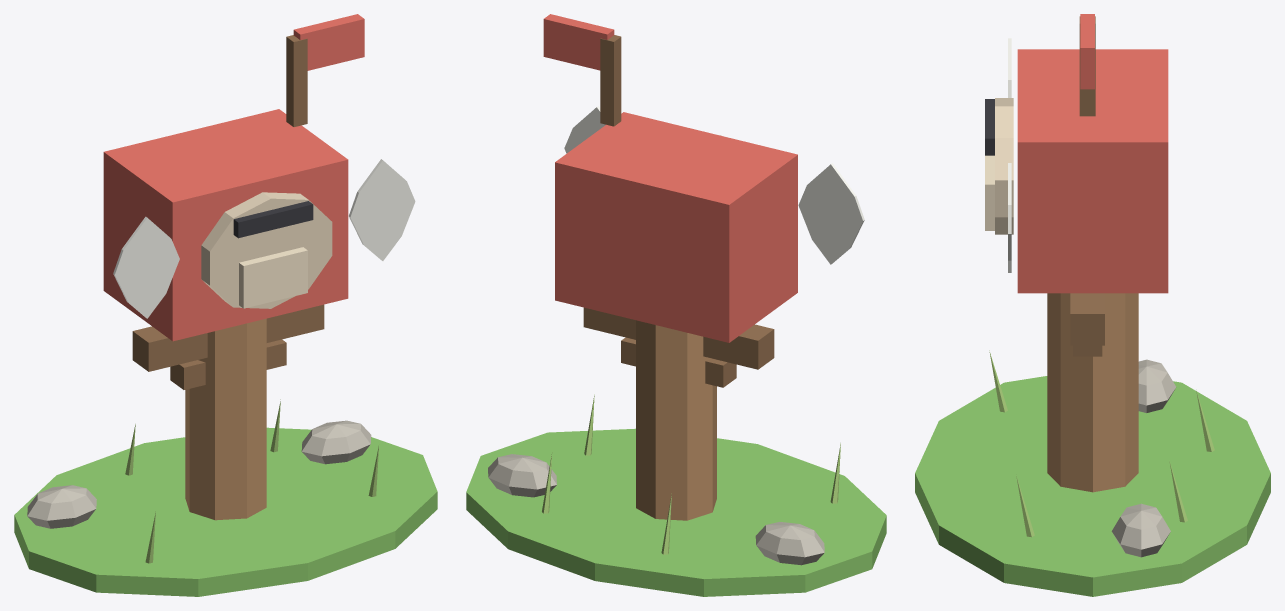
3 views of the same model, side by side, from view 1: azimuth 30°, elevation 25°; view 2: azimuth 150°, elevation 25°; view 3: azimuth 270°, elevation 25° (orthographic). The views are drawn at different scales.
Parts seen in each view (by area): view 1: round grass base, rounded red courier mailbox body, short rounded wooden post, cream front envelope door, large white courier wing right, large white courier wing left, chunky cross support, front envelope flap, clear red flag cloth, small rock.001, small rock, strong flag pole (+2 smaller); view 2: rounded red courier mailbox body, round grass base, short rounded wooden post, large white courier wing left, chunky cross support, clear red flag cloth, small rock.001, small rock, strong flag pole, small lower brace, large white courier wing right; view 3: round grass base, rounded red courier mailbox body, short rounded wooden post, cream front envelope door, small rock, chunky cross support, small rock.001, clear red flag cloth, front envelope flap, strong flag pole, wide black slot.
Boxes of the visible parts, left/top/right/bottom form: round grass base: left=14, top=427, right=437, bottom=596; rounded red courier mailbox body: left=103, top=109, right=348, bottom=341; short rounded wooden post: left=185, top=318, right=266, bottom=520; cream front envelope door: left=201, top=192, right=332, bottom=308; large white courier wing right: left=349, top=159, right=415, bottom=260; large white courier wing left: left=113, top=216, right=179, bottom=318; chunky cross support: left=132, top=304, right=324, bottom=371; front envelope flap: left=239, top=247, right=307, bottom=308; clear red flag cloth: left=293, top=14, right=364, bottom=70; small rock.001: left=27, top=485, right=96, bottom=528; small rock: left=301, top=420, right=371, bottom=464; strong flag pole: left=286, top=35, right=307, bottom=126; rounded red courier mailbox body: left=555, top=112, right=797, bottom=342; round grass base: left=466, top=428, right=886, bottom=596; short rounded wooden post: left=636, top=320, right=716, bottom=520; large white courier wing left: left=798, top=163, right=864, bottom=264; chunky cross support: left=583, top=307, right=774, bottom=369; clear red flag cloth: left=543, top=14, right=614, bottom=70; small rock.001: left=755, top=522, right=824, bottom=565; small rock: left=488, top=454, right=556, bottom=497; strong flag pole: left=600, top=35, right=621, bottom=126; small lower brace: left=621, top=337, right=736, bottom=387; large white courier wing right: left=564, top=106, right=605, bottom=153; round grass base: left=915, top=376, right=1270, bottom=596; rounded red courier mailbox body: left=1017, top=49, right=1168, bottom=293; short rounded wooden post: left=1047, top=293, right=1138, bottom=492; cream front envelope door: left=995, top=98, right=1013, bottom=234; small rock: left=1111, top=503, right=1170, bottom=557; chunky cross support: left=1070, top=293, right=1104, bottom=345; small rock.001: left=1138, top=359, right=1176, bottom=412; clear red flag cloth: left=1080, top=14, right=1094, bottom=89; front envelope flap: left=985, top=155, right=994, bottom=230; strong flag pole: left=1079, top=16, right=1095, bottom=116; wide black slot: left=985, top=99, right=994, bottom=155.
Size of the model in its own units: 1.84 by 2.13 by 1.32.
